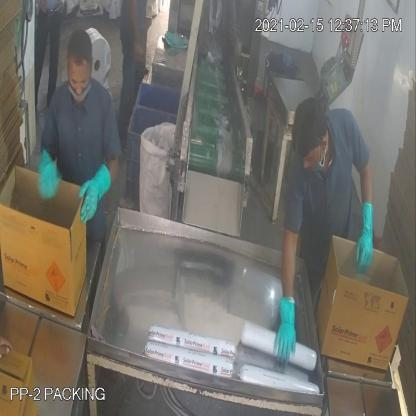glove: (266, 279, 303, 372), (76, 160, 119, 229), (348, 197, 383, 273), (30, 147, 64, 197)
no_glove: (125, 0, 149, 68)
